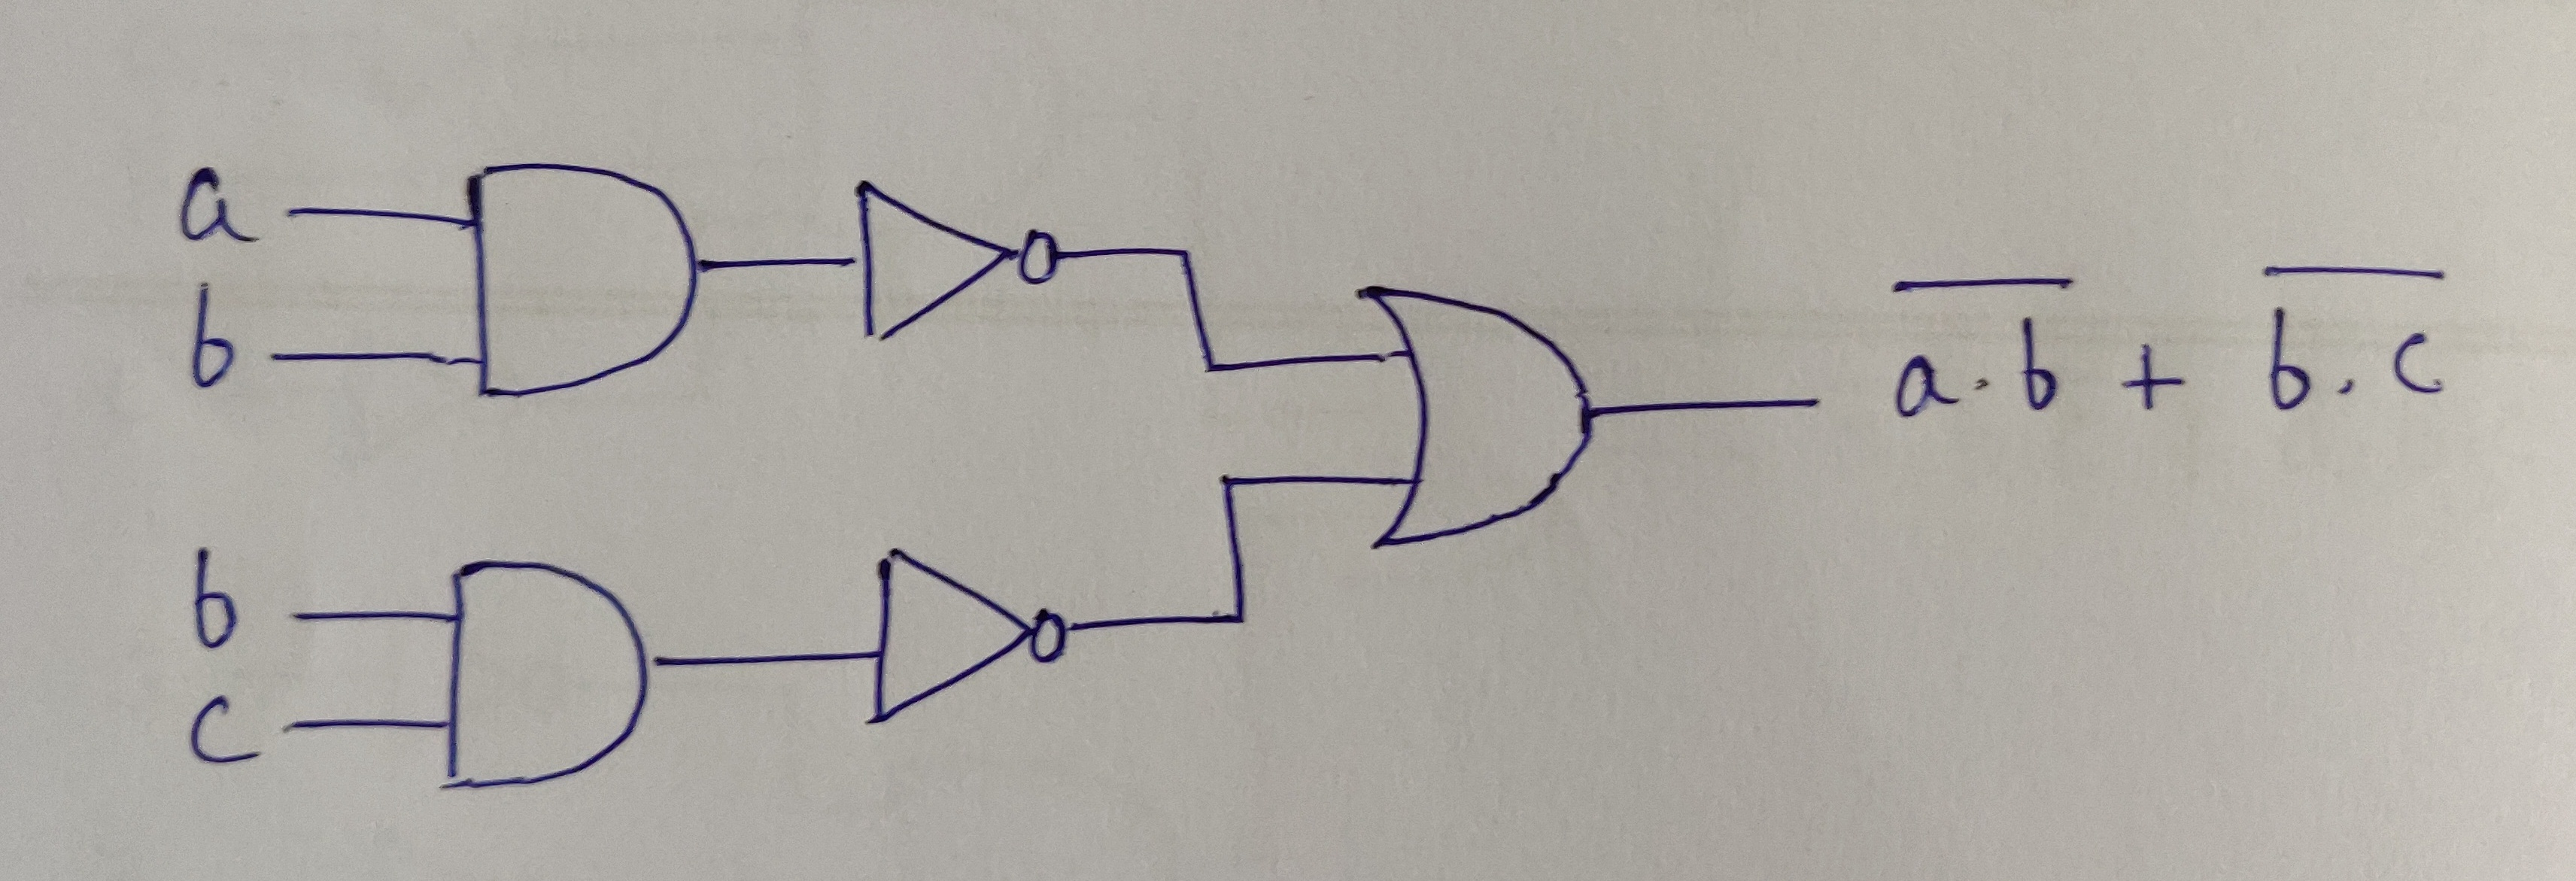and: (429, 133, 729, 427), (422, 534, 652, 784)
not: (805, 168, 1101, 371), (831, 528, 1097, 748)
or: (1329, 243, 1651, 593)
